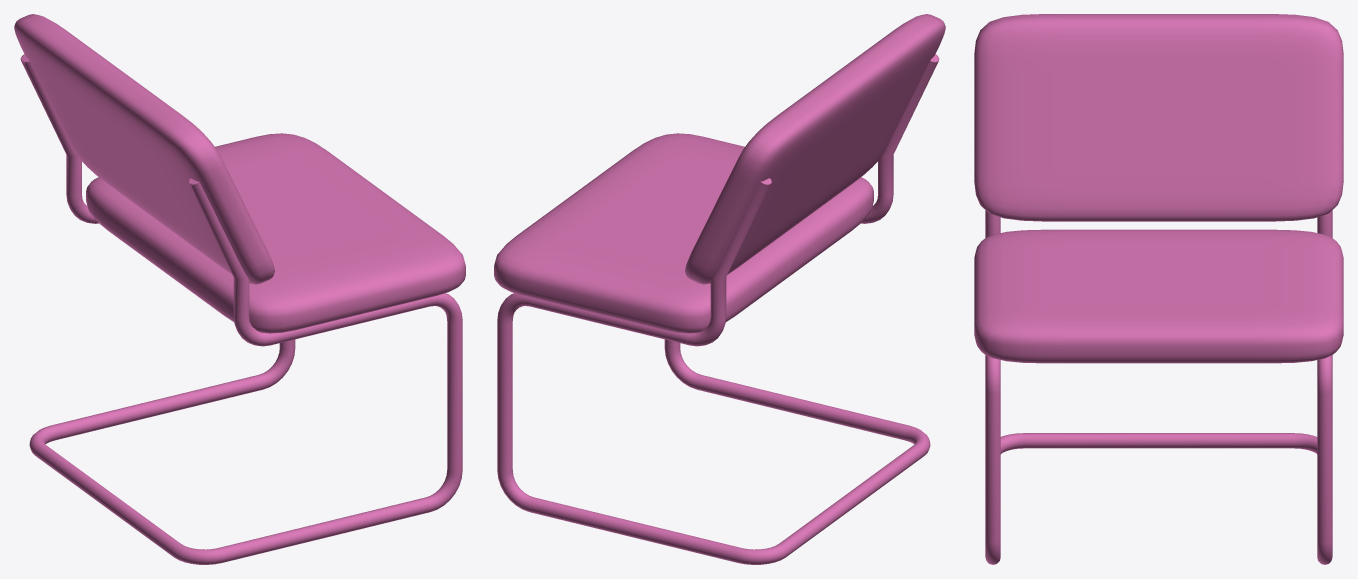
File: Chair.FBX
3 views of the same model, side by side, from view 1: azimuth 30°, elevation 25°; view 2: azimuth 150°, elevation 25°; view 3: azimuth 270°, elevation 25° (orthographic).
Parts seen in each view (by area): view 1: Box001; view 2: Box001; view 3: Box001.
Boxes of the visible parts, left/top/right/bottom form: Box001: left=14, top=14, right=465, bottom=564; Box001: left=494, top=14, right=945, bottom=564; Box001: left=974, top=14, right=1343, bottom=564.
Size of the model in its own units: 21.51 by 30.49 by 23.62.
1 material, 1 textured.
